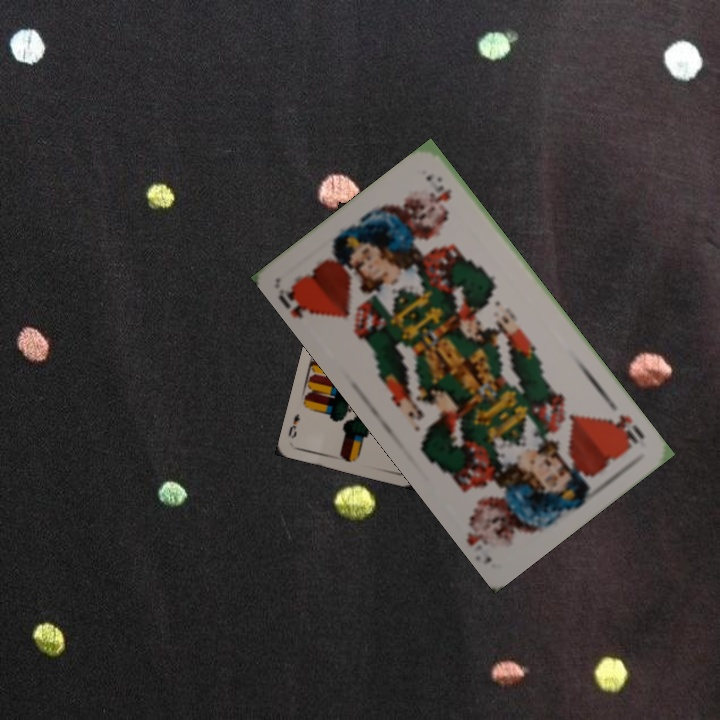HO: (274, 280, 321, 321), (605, 409, 648, 450)
